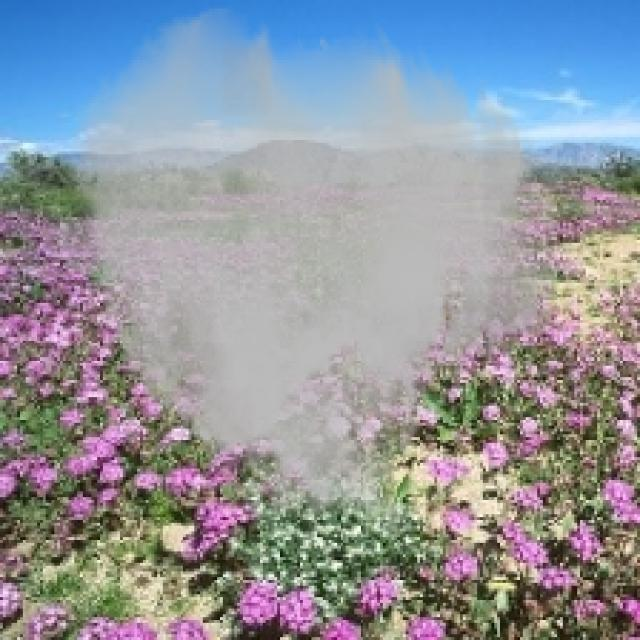Smoke: (40, 3, 563, 546)
